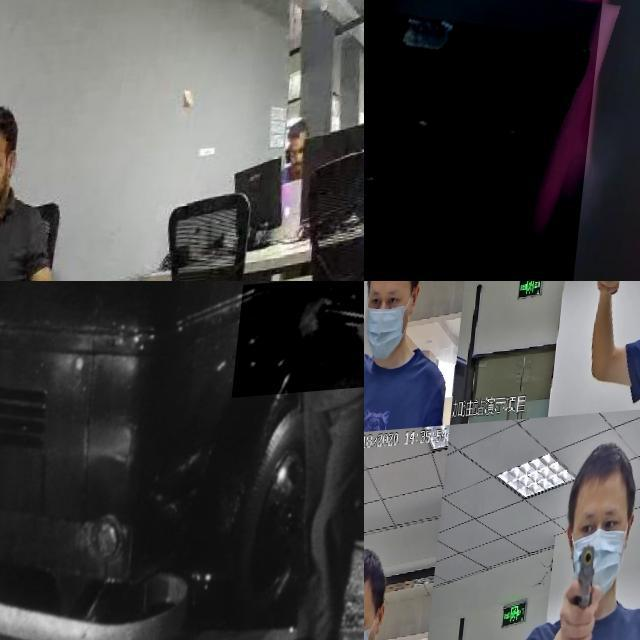gun-knife-thesis - v11 Yolov5 augmented: (364, 0, 611, 281), (239, 281, 364, 403), (568, 544, 614, 640), (364, 281, 391, 342), (601, 281, 628, 323)
